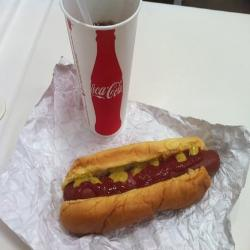hotdog: (52, 134, 235, 230)
